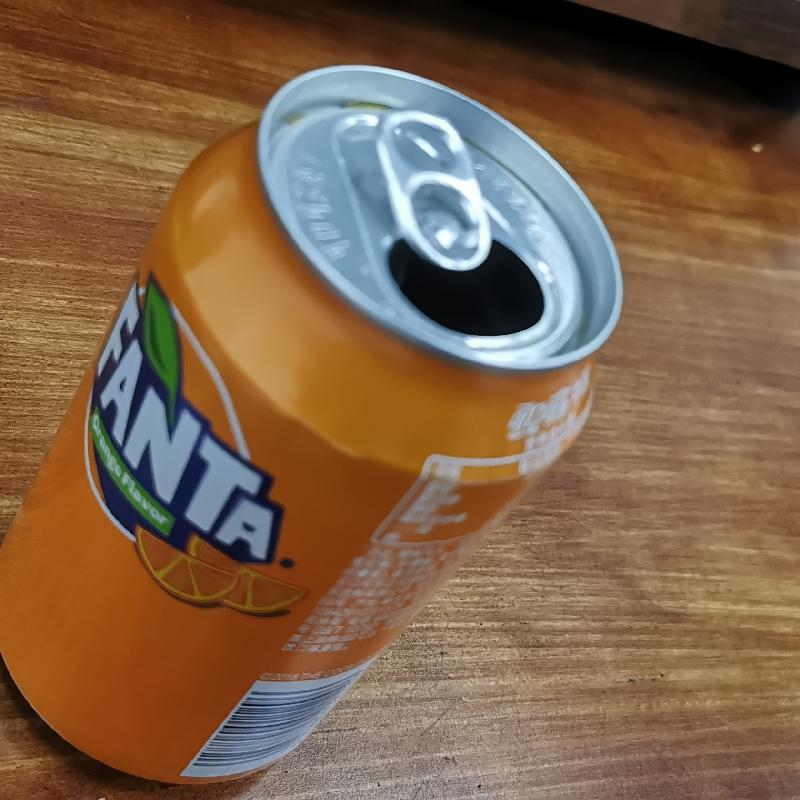cans: (3, 63, 622, 785)
